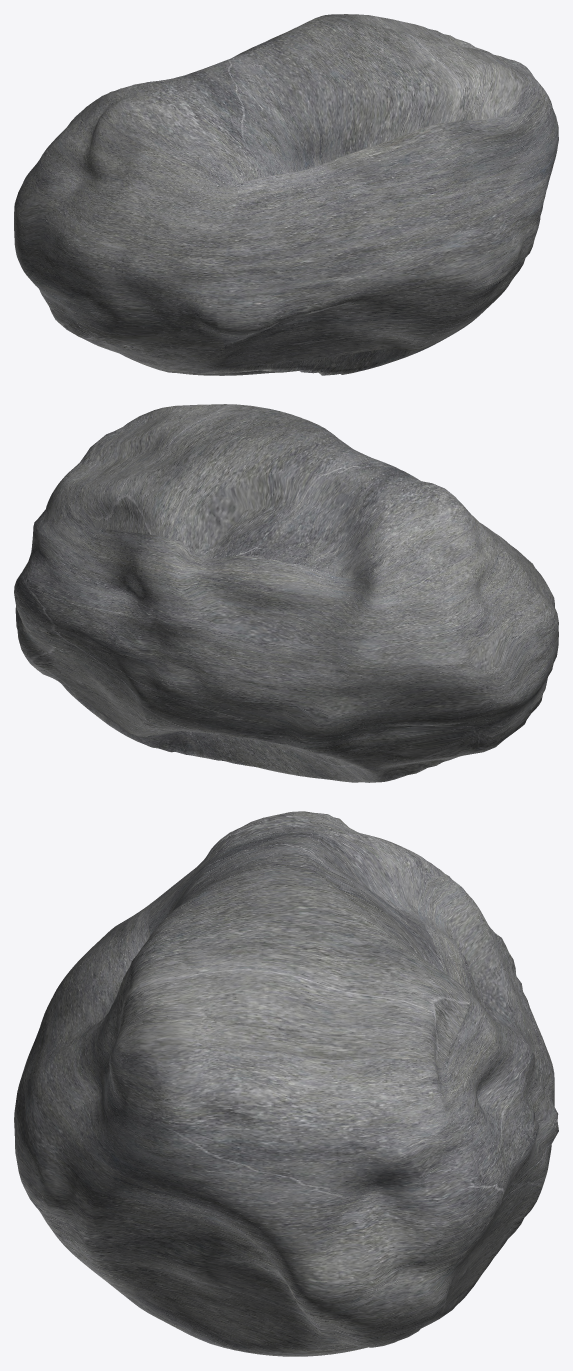
File: boulder.gltf
3 views of the same model, one above another, from view 1: azimuth 30°, elevation 25°; view 2: azimuth 150°, elevation 25°; view 3: azimuth 270°, elevation 25° (orthographic). The views are drawn at different scales.
Visible parts, largest first — view 1: Cube; view 2: Cube; view 3: Cube.
Part boxes in pixels (box(x1,y1,x2,y2)): Cube: box(14, 14, 558, 375); Cube: box(14, 404, 558, 782); Cube: box(14, 811, 558, 1356).
Size of the model in its own units: 9.7 by 5.8 by 6.84.
Materials: 1 (1 with a texture image).
